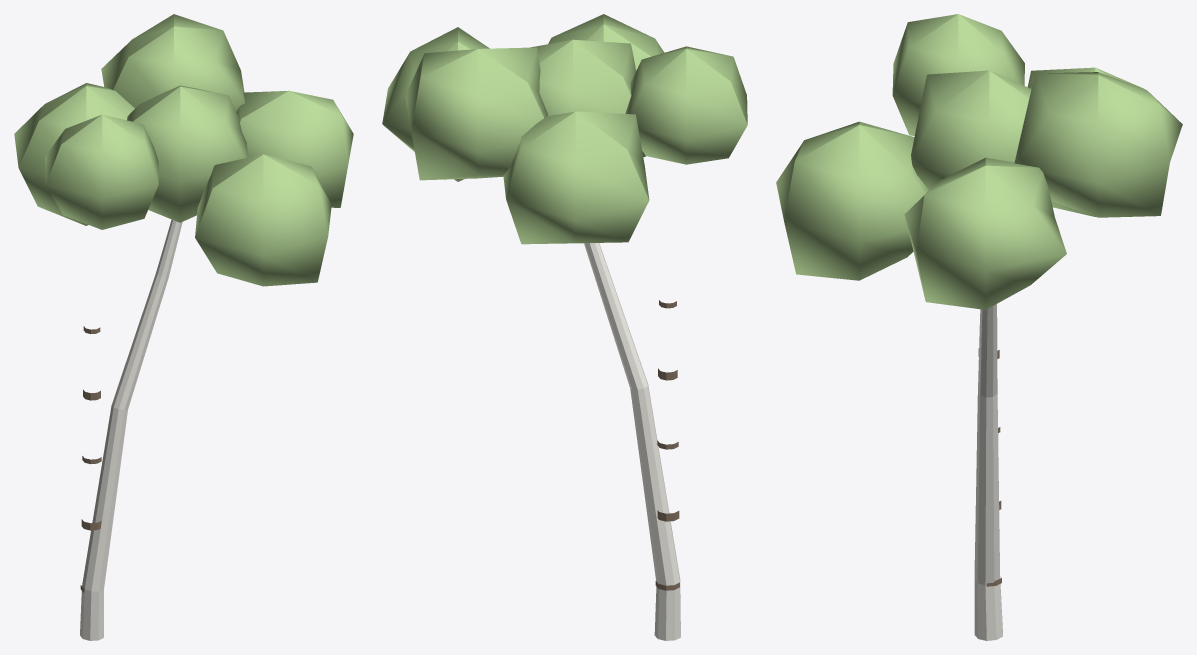
The model's file is birch_leaning.glb.
3 renders of one model, left to right at view 1: azimuth 30°, elevation 25°; view 2: azimuth 150°, elevation 25°; view 3: azimuth 270°, elevation 25°, orthographic. The views are drawn at different scales.
Parts seen in each view (by area): view 1: birch-leaning; view 2: birch-leaning; view 3: birch-leaning.
Boxes of the visible parts, box(x1,y1,x2,y2) form: birch-leaning: box(14, 14, 353, 640); birch-leaning: box(382, 14, 747, 640); birch-leaning: box(776, 14, 1182, 640).
Size of the model in its own units: 3.64 by 5.92 by 3.45.
